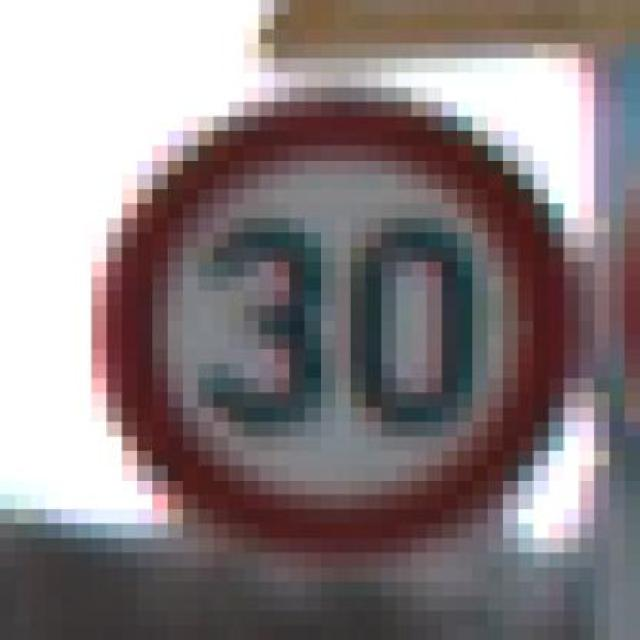Speed Limit 30 KMPh: (61, 73, 610, 582)
